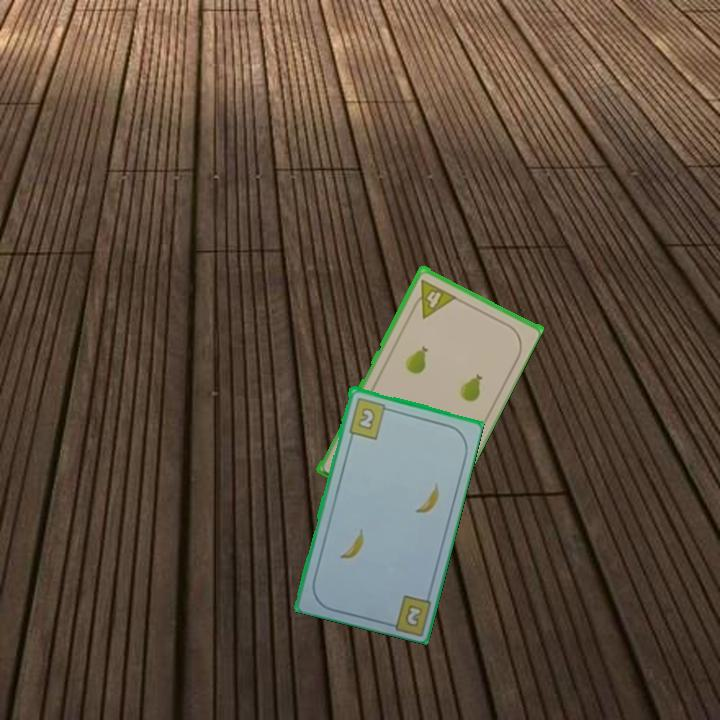2b: (345, 394, 394, 441), (401, 601, 425, 630)
4p: (407, 275, 458, 320)
